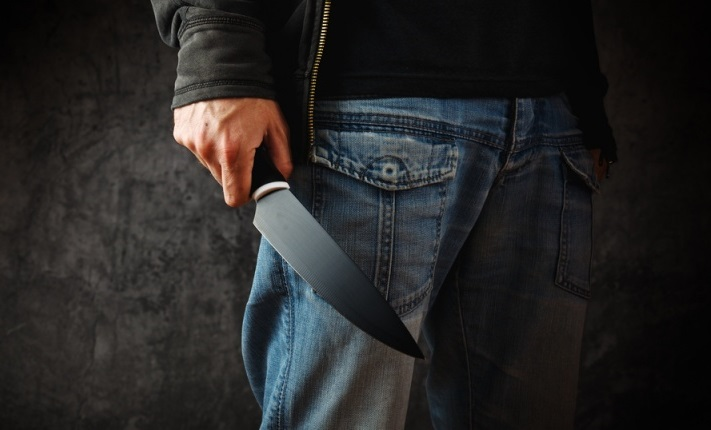knife: (188, 125, 435, 368)
